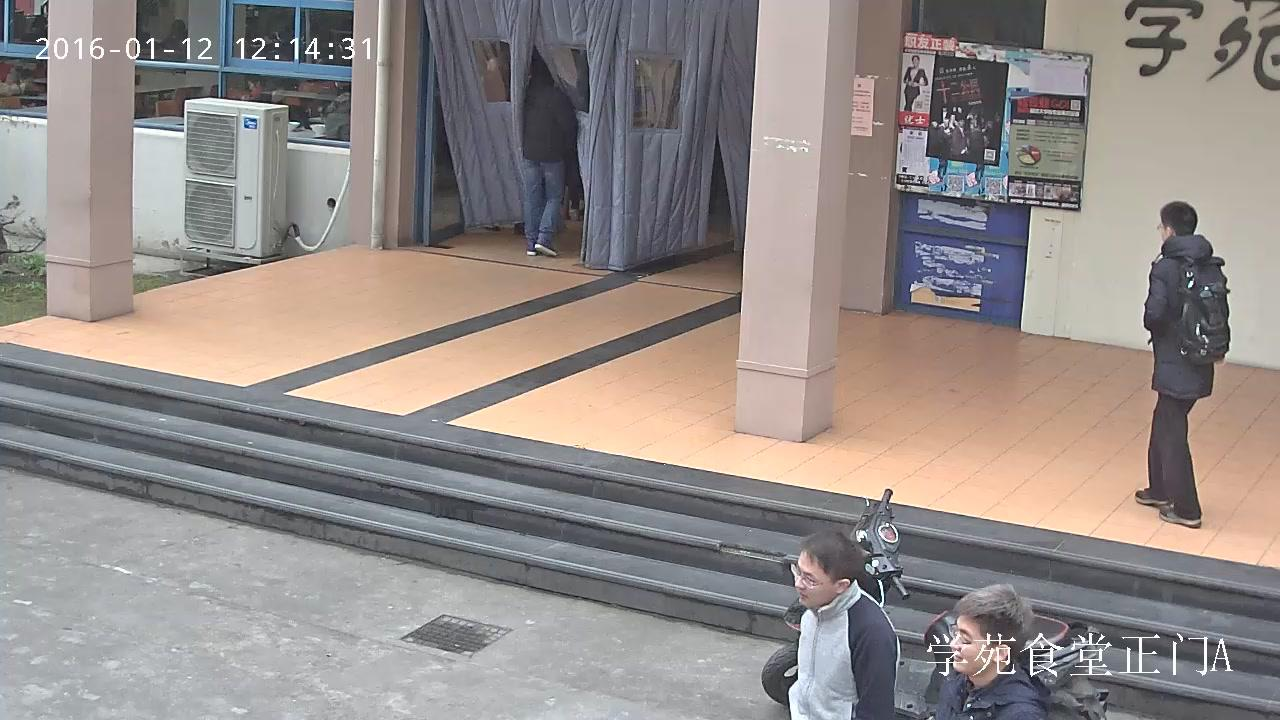person: (1133, 200, 1230, 527), (787, 533, 898, 720), (937, 584, 1045, 720), (519, 58, 577, 256), (320, 83, 351, 143), (902, 54, 926, 110)
